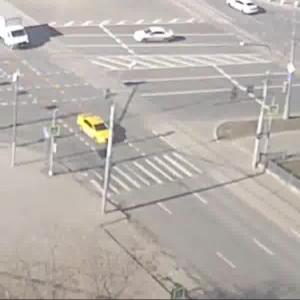car: (1, 2, 34, 52), (74, 116, 120, 148), (135, 24, 177, 48), (219, 1, 261, 19)
